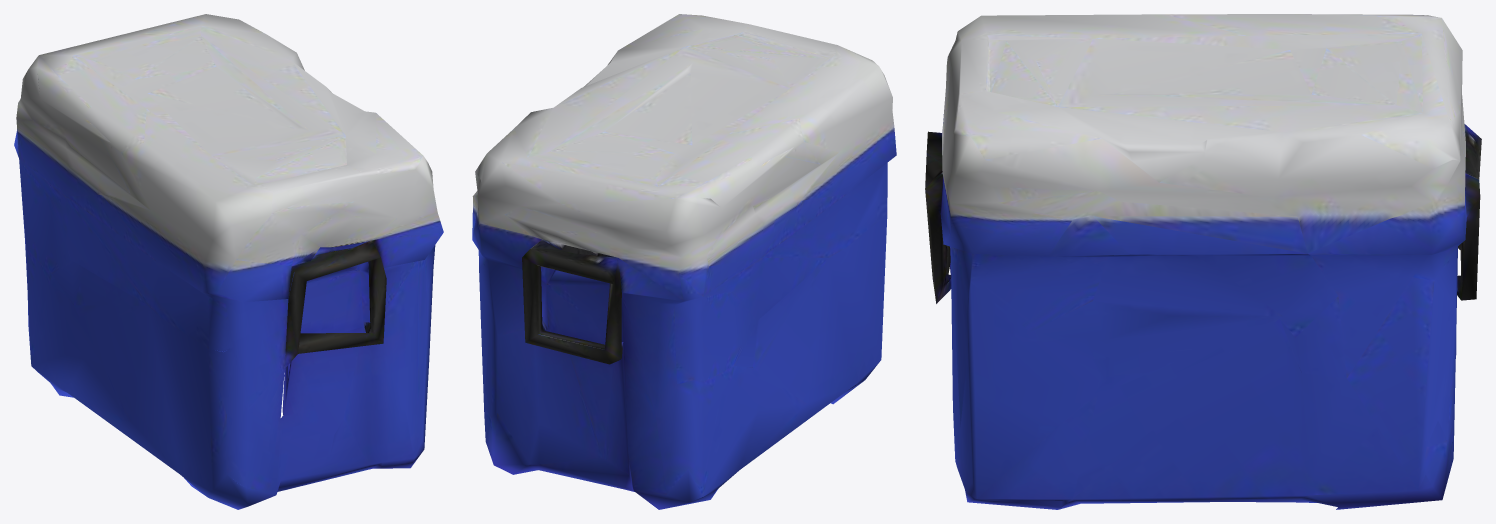
File: frigo.glb
3 renders of one model, left to right at view 1: azimuth 30°, elevation 25°; view 2: azimuth 150°, elevation 25°; view 3: azimuth 270°, elevation 25°, orthographic. The views are drawn at different scales.
Parts seen in each view (by area): view 1: tripo_node_cf756d7d-4e92-4c74-bed0-3bd51c2793ba; view 2: tripo_node_cf756d7d-4e92-4c74-bed0-3bd51c2793ba; view 3: tripo_node_cf756d7d-4e92-4c74-bed0-3bd51c2793ba.
Part boxes in pixels (x1,y1,x2,y2): tripo_node_cf756d7d-4e92-4c74-bed0-3bd51c2793ba: (14,14,443,509); tripo_node_cf756d7d-4e92-4c74-bed0-3bd51c2793ba: (472,14,896,509); tripo_node_cf756d7d-4e92-4c74-bed0-3bd51c2793ba: (925,14,1481,509).
Size of the model in its own units: 0.7906 by 1 by 1.3.
1 material, 1 textured.
